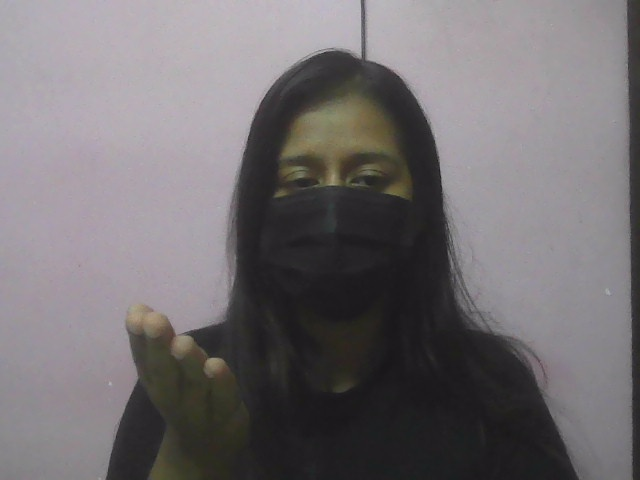Thank you: (92, 266, 303, 473)
